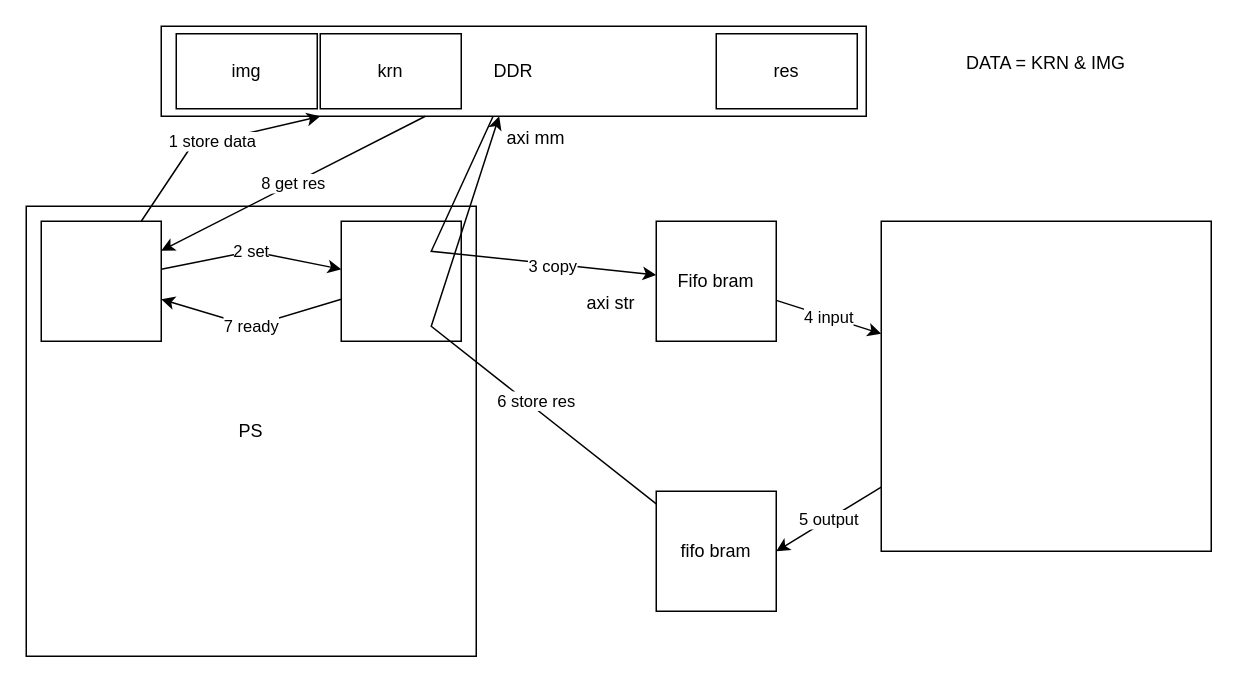
Some shapes in this 1238 by 683 pixel diagram are drawn without their labels. The shapes that lost their labels are listed below. From the top down, each one's centre as x and y in pixels, then its label:
pixel 100 280: CPU
pixel 400 280: DMA
pixel 1045 385: Conv IP
